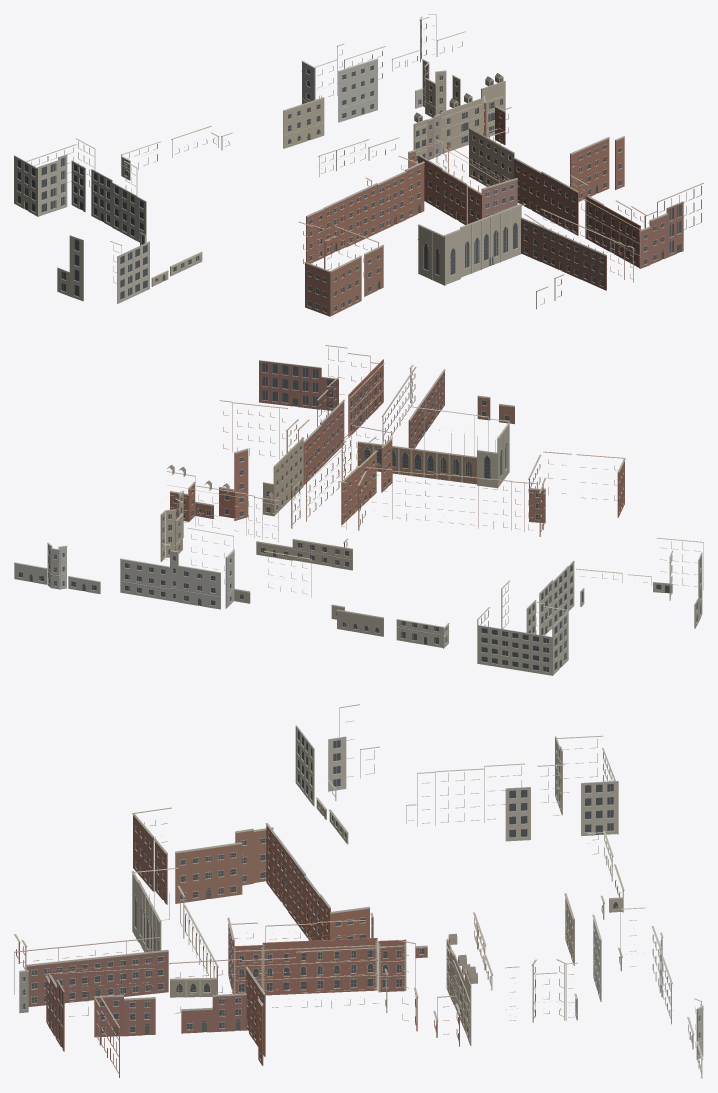
3 views of the same model, one above another, from view 1: azimuth 30°, elevation 25°; view 2: azimuth 150°, elevation 25°; view 3: azimuth 270°, elevation 25° (orthographic). The views are drawn at different scales.
Visible parts, largest first — view 1: f:way/164848632, f:way/148215552, f:way/157588863, f:way/148215571, f:way/148215548, f:way/148215549, f:way/157588865, f:way/148215565, f:way/164708968, f:way/164848659, f:way/164848641, f:way/164830068 (+3 smaller); view 2: f:way/164848632, f:way/164708968, f:way/148215571, f:way/157588859, f:way/148215548, f:way/157588863, f:way/164830068, f:way/164848659, f:way/157588872, f:way/148215565, f:way/157588876, f:way/148215549 (+3 smaller); view 3: f:way/148215548, f:way/164848632, f:way/148215549, f:way/148215565, f:way/157588863, f:way/148215552, f:way/148215571, f:way/164708968, f:way/164848659, f:way/157588865, f:way/164830068, f:way/164848641 (+1 smaller).
Part boxes in pixels (x1=…): f:way/164848632: x1=14, y1=138, x2=149, y2=303; f:way/148215552: x1=306, y1=156, x2=424, y2=263; f:way/157588863: x1=541, y1=171, x2=667, y2=268; f:way/148215571: x1=418, y1=203, x2=545, y2=285; f:way/148215548: x1=408, y1=134, x2=517, y2=224; f:way/148215549: x1=298, y1=221, x2=384, y2=316; f:way/157588865: x1=513, y1=136, x2=624, y2=215; f:way/148215565: x1=520, y1=208, x2=624, y2=290; f:way/164708968: x1=301, y1=14, x2=465, y2=122; f:way/164848659: x1=318, y1=93, x2=481, y2=176; f:way/164848641: x1=422, y1=59, x2=505, y2=137; f:way/164830068: x1=121, y1=97, x2=324, y2=180; f:way/164848632: x1=477, y1=538, x2=703, y2=675; f:way/164708968: x1=14, y1=527, x2=234, y2=609; f:way/148215571: x1=357, y1=406, x2=510, y2=488; f:way/157588859: x1=259, y1=345, x2=347, y2=410; f:way/148215548: x1=291, y1=425, x2=392, y2=529; f:way/157588863: x1=286, y1=353, x2=384, y2=467; f:way/164830068: x1=234, y1=550, x2=449, y2=648; f:way/164848659: x1=195, y1=480, x2=352, y2=570; f:way/157588872: x1=170, y1=448, x2=248, y2=522; f:way/148215565: x1=382, y1=367, x2=445, y2=448; f:way/157588876: x1=262, y1=437, x2=304, y2=516; f:way/148215549: x1=528, y1=451, x2=625, y2=536; f:way/148215548: x1=227, y1=912, x2=406, y2=995; f:way/164848632: x1=295, y1=704, x2=618, y2=841; f:way/148215549: x1=132, y1=807, x2=273, y2=904; f:way/148215565: x1=14, y1=937, x2=168, y2=1006; f:way/157588863: x1=45, y1=959, x2=247, y2=1039; f:way/148215552: x1=265, y1=823, x2=370, y2=940; f:way/148215571: x1=131, y1=867, x2=218, y2=997; f:way/164708968: x1=574, y1=907, x2=703, y2=1078; f:way/164848659: x1=446, y1=912, x2=492, y2=1030; f:way/157588865: x1=241, y1=957, x2=295, y2=1065; f:way/164830068: x1=564, y1=831, x2=624, y2=971; f:way/164848641: x1=464, y1=959, x2=577, y2=1045.
Size of the model in its own units: 169 by 23.05 by 154.
